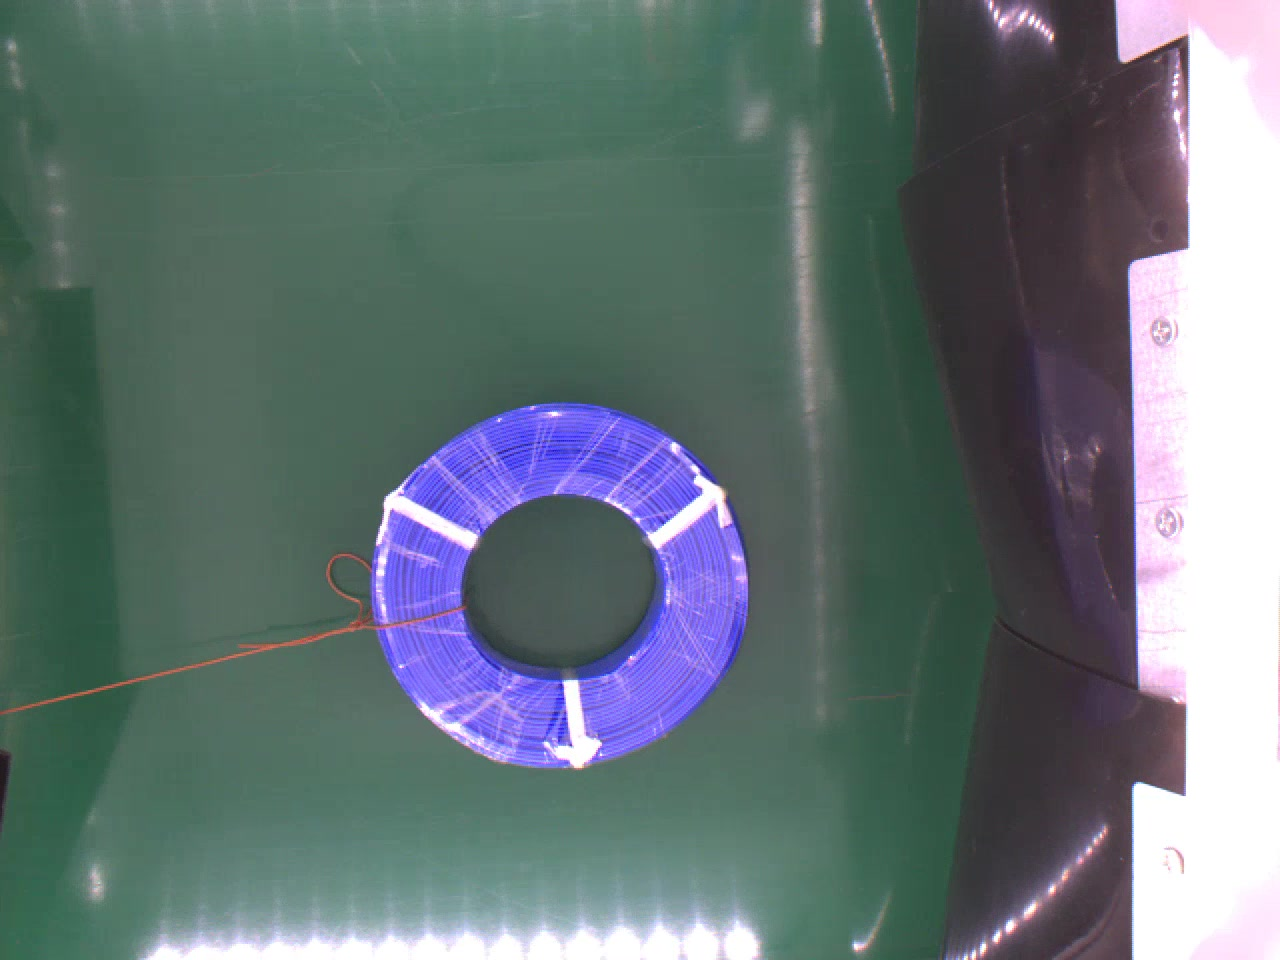blue: (359, 397, 752, 769)
